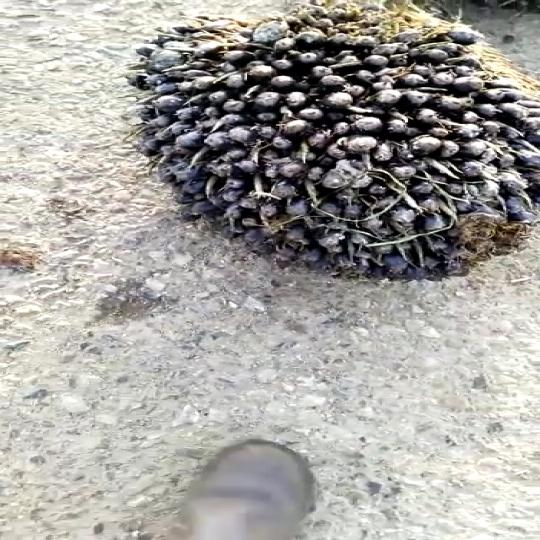mentah: (74, 0, 540, 281)
